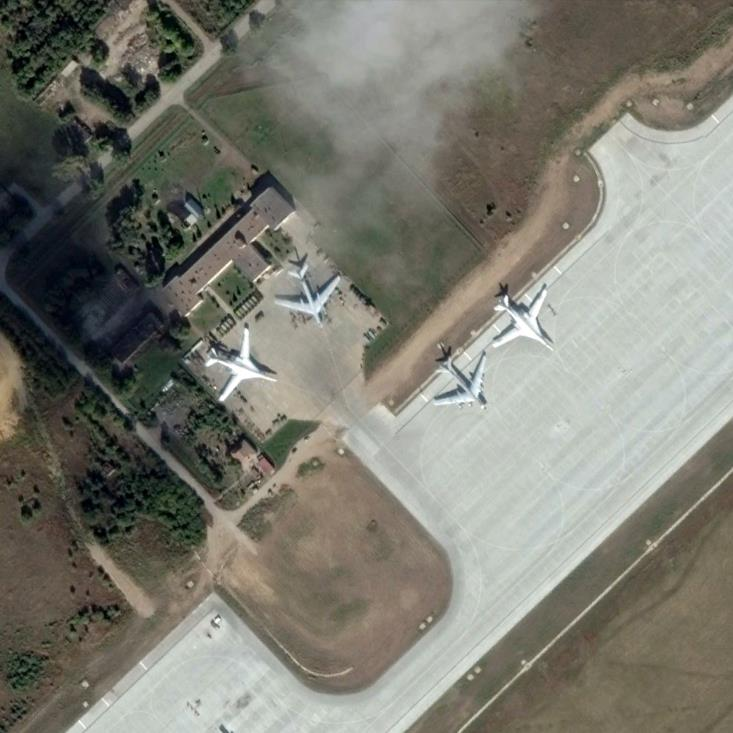A17: (275, 263, 343, 330), (430, 350, 489, 410)
A6: (205, 326, 279, 403), (490, 287, 554, 353)
